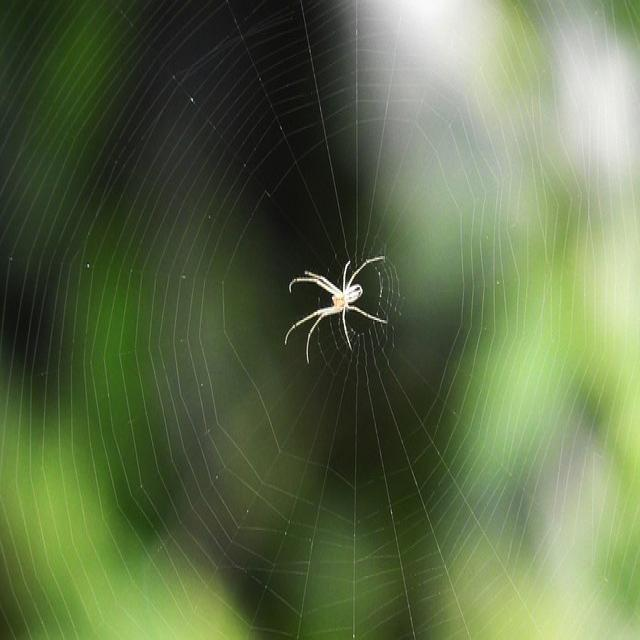spyder: (285, 257, 386, 362)
